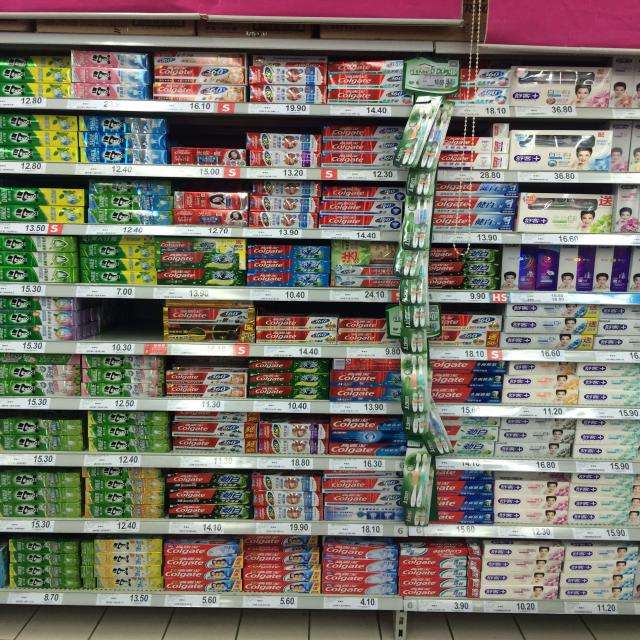void: (132, 301, 158, 358), (105, 299, 129, 356), (81, 300, 103, 354)
